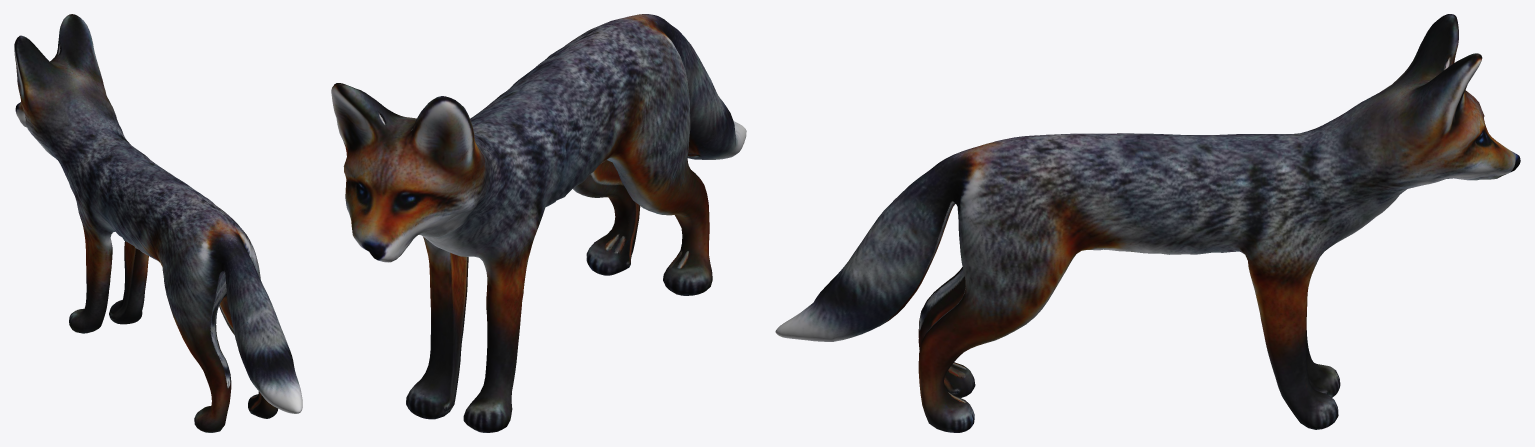
File: zorrogris.glb
The picture shows the model from 3 angles, left to right: view 1: azimuth 30°, elevation 25°; view 2: azimuth 150°, elevation 25°; view 3: azimuth 270°, elevation 25°; orthographic projection. The views are drawn at different scales.
Parts seen in each view (by area): view 1: node_effef34a_996d_4dd1_915d_d87ae9ae9d5d_mesh0; view 2: node_effef34a_996d_4dd1_915d_d87ae9ae9d5d_mesh0; view 3: node_effef34a_996d_4dd1_915d_d87ae9ae9d5d_mesh0.
Part boxes in pixels (left/top/right/bottom): node_effef34a_996d_4dd1_915d_d87ae9ae9d5d_mesh0: left=14, top=14, right=302, bottom=432; node_effef34a_996d_4dd1_915d_d87ae9ae9d5d_mesh0: left=331, top=14, right=746, bottom=432; node_effef34a_996d_4dd1_915d_d87ae9ae9d5d_mesh0: left=775, top=14, right=1520, bottom=432.
Size of the model in its own units: 0.1921 by 0.5517 by 0.9962.
Materials: 1 (1 with a texture image).
